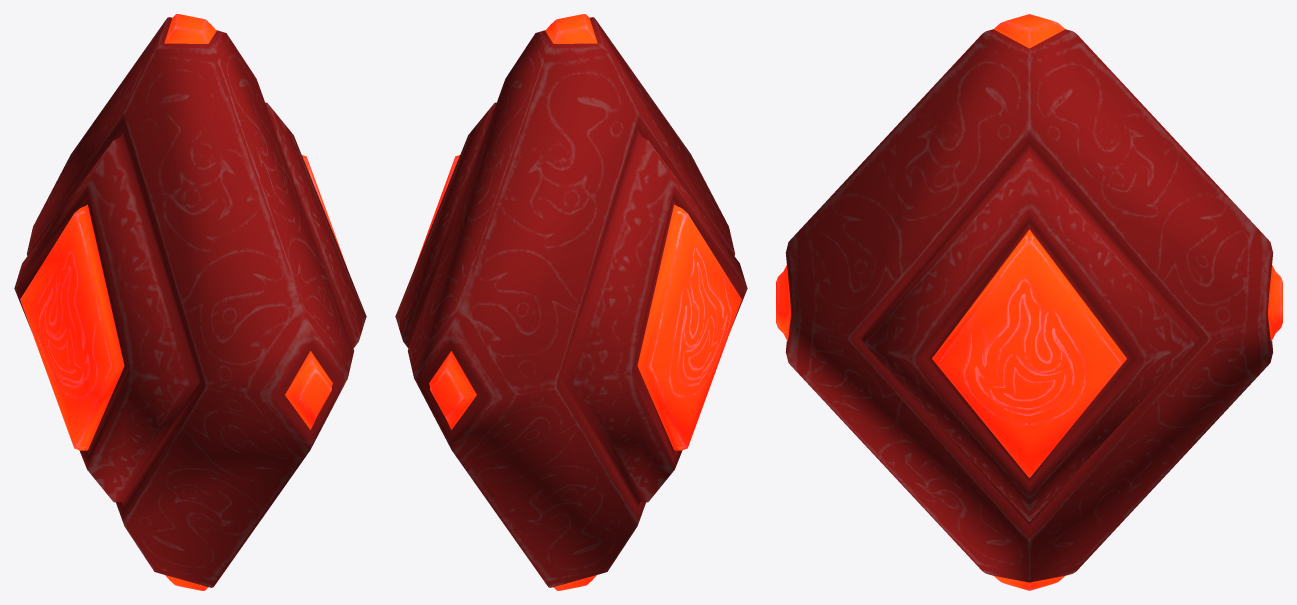
Rendered from fire gem.fbx.
3 views of the same model, side by side, from view 1: azimuth 30°, elevation 25°; view 2: azimuth 150°, elevation 25°; view 3: azimuth 270°, elevation 25° (orthographic).
Parts seen in each view (by area): view 1: fire gem; view 2: fire gem; view 3: fire gem.
Boxes of the visible parts, x1=… form: fire gem: x1=14, y1=14, x2=366, y2=590; fire gem: x1=395, y1=14, x2=747, y2=590; fire gem: x1=776, y1=14, x2=1282, y2=590.
Bounding box in the file's own units: 0.7386 × 1.52 × 1.23.
